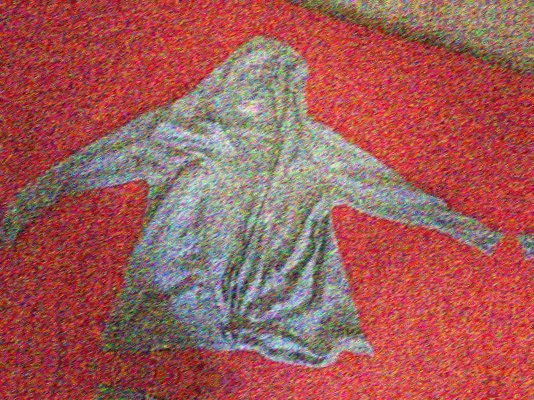Hoodie: (0, 17, 521, 394), (0, 368, 481, 400), (500, 79, 534, 400)
